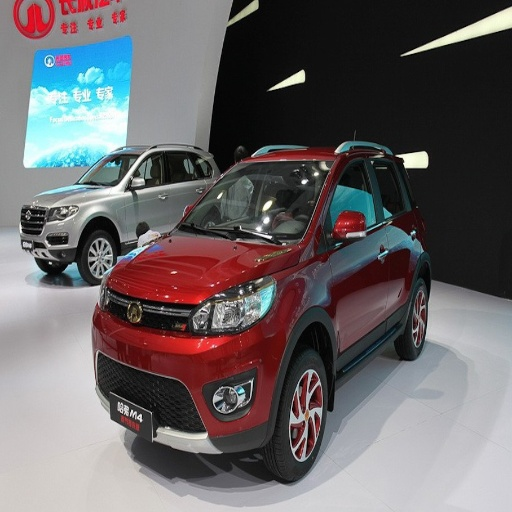back_glass: (223, 29, 307, 87)
front_bumper: (91, 290, 289, 450)
front_glass: (177, 163, 328, 242)
front_left_door: (323, 151, 386, 365)
